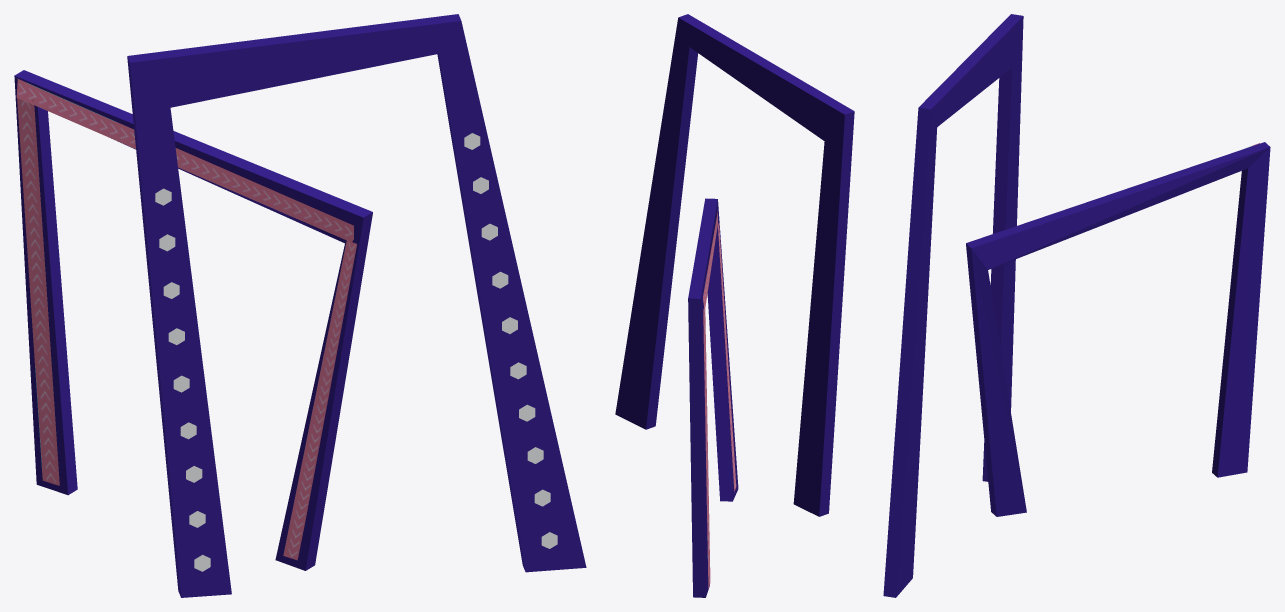
File: M_Tmenkuang01.FBX
3 renders of one model, left to right at view 1: azimuth 30°, elevation 25°; view 2: azimuth 150°, elevation 25°; view 3: azimuth 270°, elevation 25°, orthographic. The views are drawn at different scales.
Parts seen in each view (by area): view 1: M_Tmenkuang01_01, M_Tmenkuang01_03, M_Tmenkuang01_02; view 2: M_Tmenkuang01_01, M_Tmenkuang01_03; view 3: M_Tmenkuang01_01.
Boxes of the visible parts, x1,y1,x2,y2 form: M_Tmenkuang01_01: (14, 14, 586, 597); M_Tmenkuang01_03: (16, 79, 356, 560); M_Tmenkuang01_02: (155, 133, 557, 571); M_Tmenkuang01_01: (615, 14, 854, 597); M_Tmenkuang01_03: (703, 211, 736, 588); M_Tmenkuang01_01: (883, 14, 1270, 597).
Bounding box in the file's own units: 3.56 × 4.95 × 3.88.
